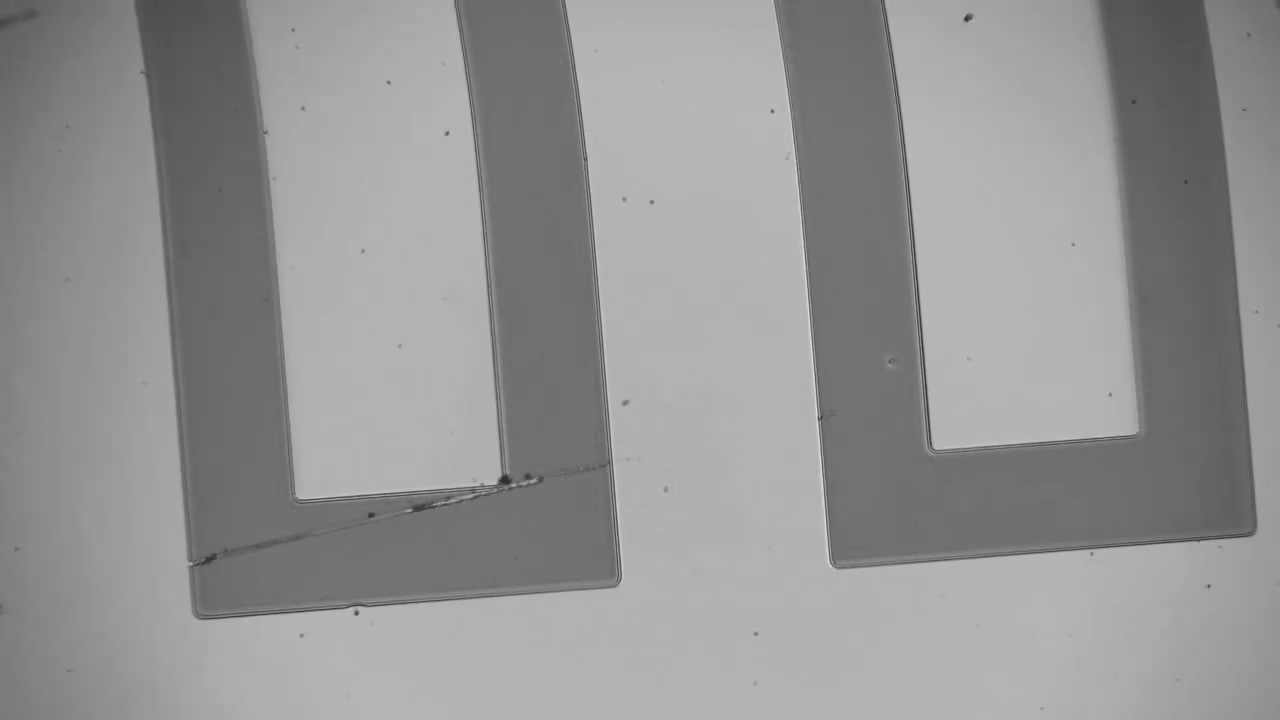scratch: (200, 460, 612, 560)
